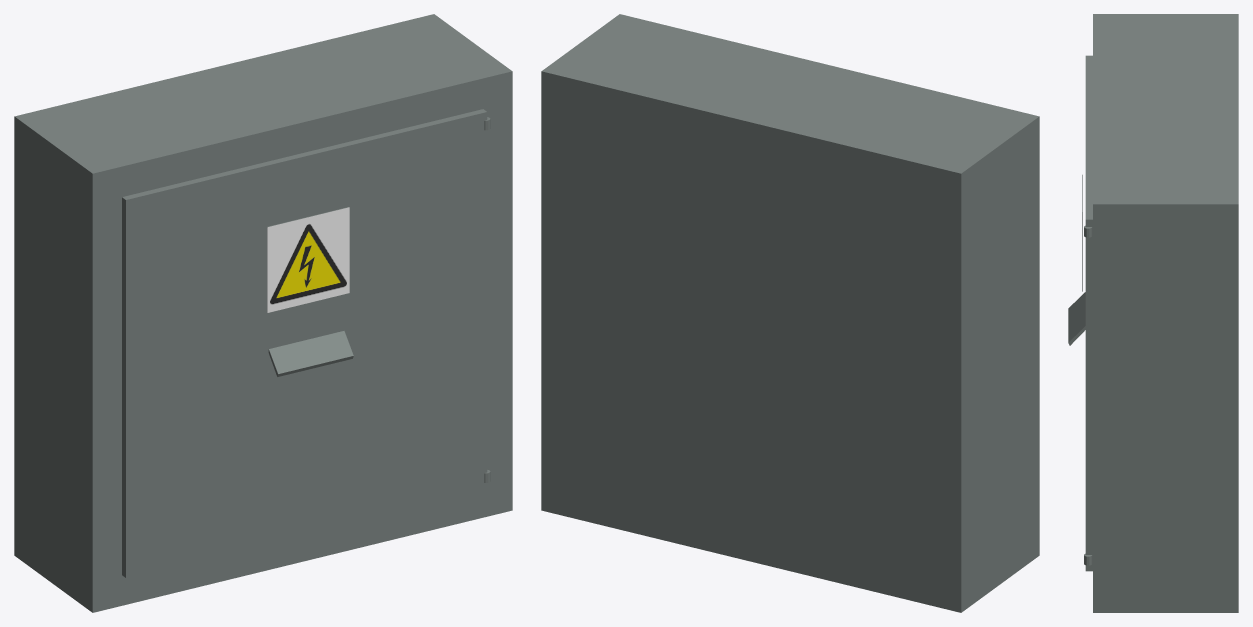
Rendered from electric_distribution_box.glb.
3 renders of one model, left to right at view 1: azimuth 30°, elevation 25°; view 2: azimuth 150°, elevation 25°; view 3: azimuth 270°, elevation 25°, orthographic. The views are drawn at different scales.
Visible parts, largest first — view 1: Distribution box - door_0, Distribution box_1; view 2: Distribution box_1; view 3: Distribution box_1, Distribution box - door_0.
Part boxes in pixels (x1,y1,x2,y2): Distribution box - door_0: (122,109,487,577); Distribution box_1: (14,14,512,612); Distribution box_1: (541,14,1039,612); Distribution box_1: (1084,14,1238,612); Distribution box - door_0: (1068,55,1092,571).
Size of the model in its own units: 0.6896 by 0.6896 by 0.2607.
2 materials, 1 textured.
